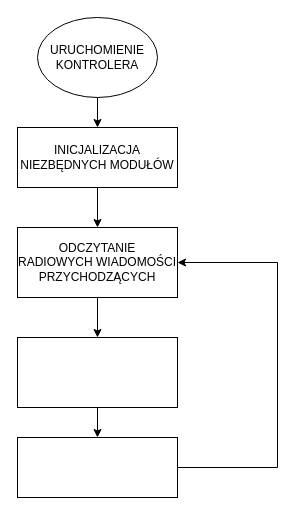
This 303x515 diagram has some shape labels left out. Each missing label, with the centre of its shape:
"ODCZYTANIE DANYCH Z ODBIORNIKA" goes at point (97, 372).
"STEROWANIE DANYMI Z ODBIORNIKA" goes at point (97, 467).
